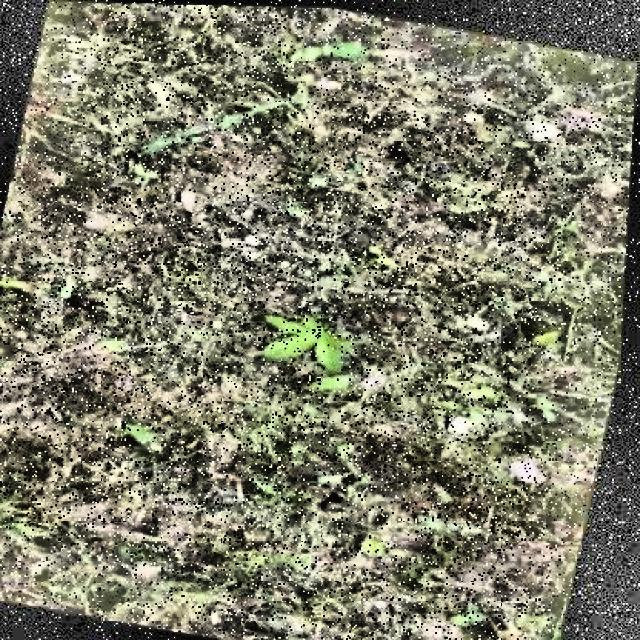Weeds: (256, 304, 359, 373)
